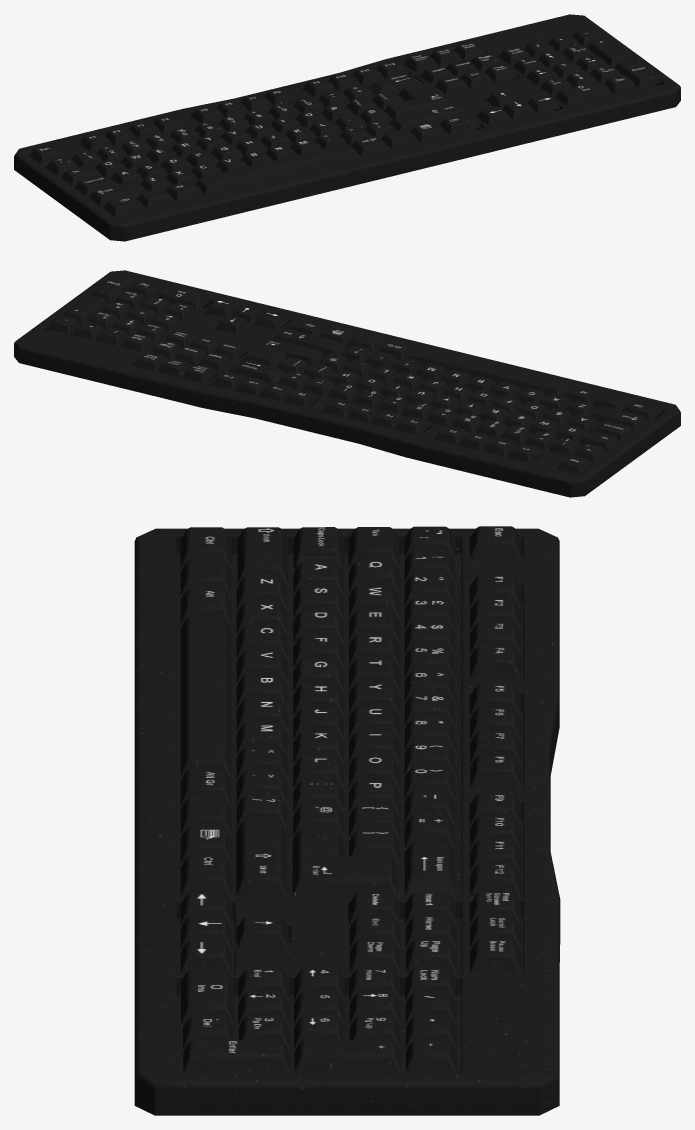
The model's file is Team2_Herry_Keyboard.fbx.
3 renders of one model, top to bottom at view 1: azimuth 30°, elevation 25°; view 2: azimuth 150°, elevation 25°; view 3: azimuth 270°, elevation 25°, orthographic. The views are drawn at different scales.
Visible parts, largest first — view 1: Keys, Keyboard_Body; view 2: Keys, Keyboard_Body; view 3: Keys, Keyboard_Body.
Part boxes in pixels (x1,y1,x2,y2): Keys: (29, 28, 661, 216); Keyboard_Body: (14, 14, 680, 241); Keys: (47, 274, 662, 474); Keyboard_Body: (14, 270, 680, 497); Keys: (180, 526, 520, 1072); Keyboard_Body: (134, 528, 560, 1115).
Size of the model in its own units: 45.05 by 1.74 by 14.55.
Materials: 2 (2 with a texture image).
